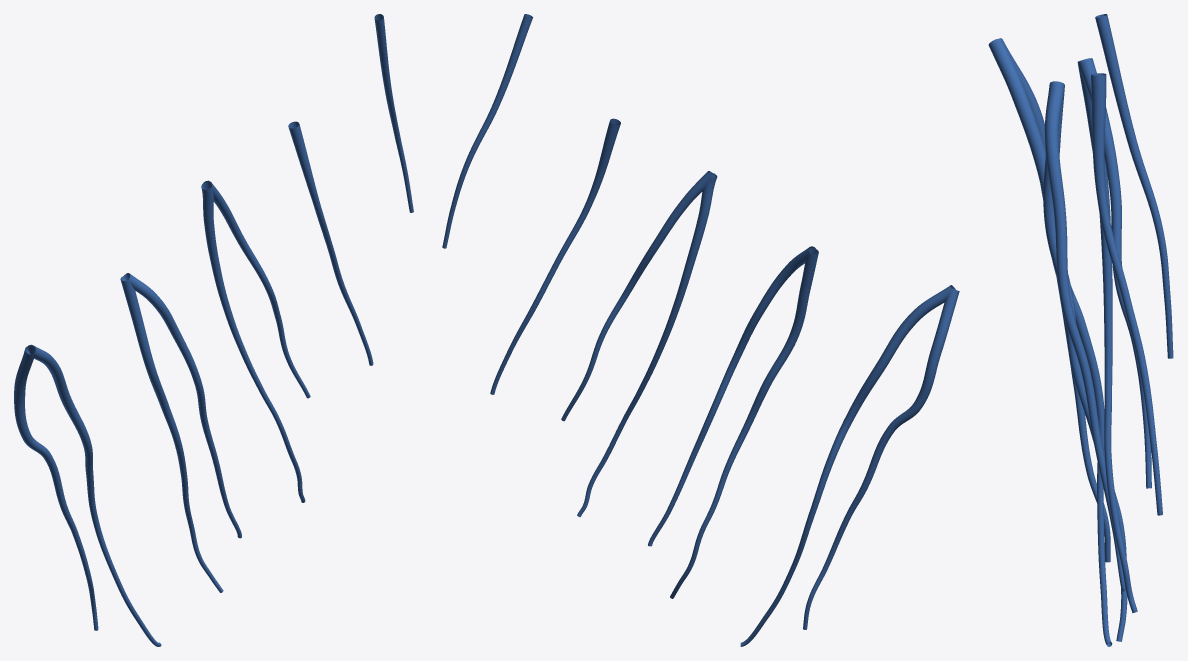
3 views of the same model, side by side, from view 1: azimuth 30°, elevation 25°; view 2: azimuth 150°, elevation 25°; view 3: azimuth 270°, elevation 25° (orthographic). The views are drawn at different scales.
Visible parts, largest first — view 1: 左侧趾背静脉; view 2: 左侧趾背静脉; view 3: 左侧趾背静脉.
Part boxes in pixels (bbox=[...]): 左侧趾背静脉: bbox=[14, 14, 413, 646]; 左侧趾背静脉: bbox=[442, 14, 959, 646]; 左侧趾背静脉: bbox=[988, 14, 1173, 646].
Size of the model in its own units: 0.0928 by 0.1135 by 0.0246.
